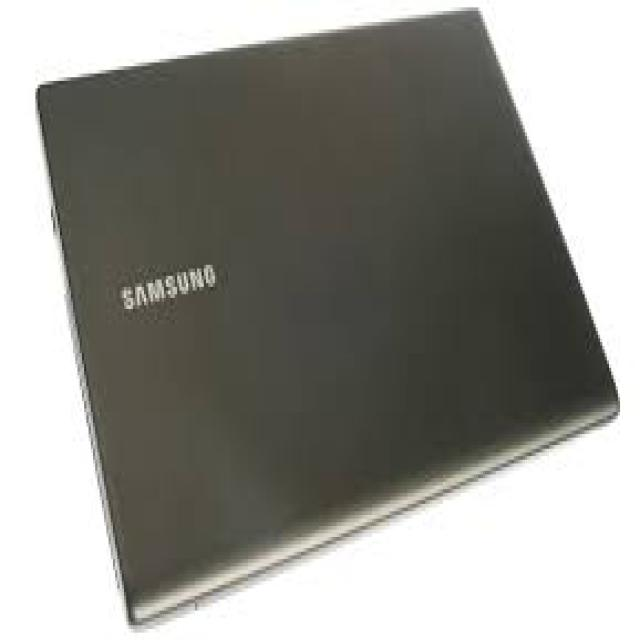laptop: (33, 0, 620, 625)
